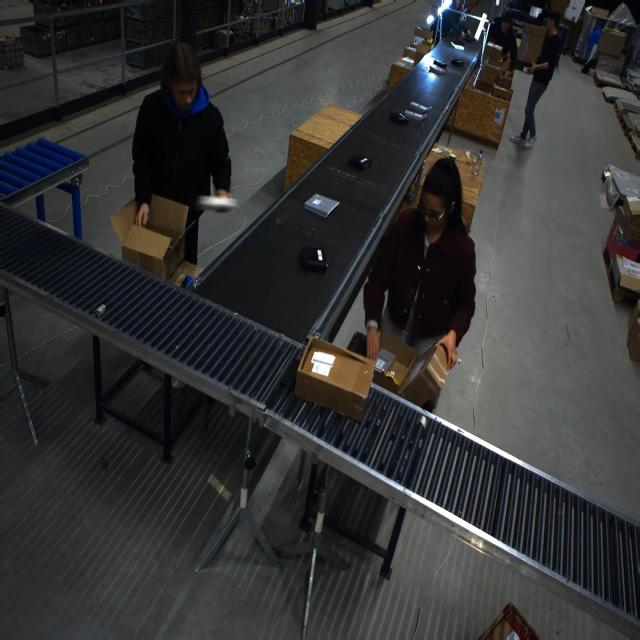box: (109, 192, 194, 283), (294, 336, 370, 421), (396, 339, 450, 407)
product: (303, 193, 339, 218), (300, 246, 328, 271), (348, 154, 372, 171), (389, 111, 409, 125), (403, 109, 425, 121), (408, 102, 430, 114), (432, 59, 447, 68), (450, 59, 464, 66)
